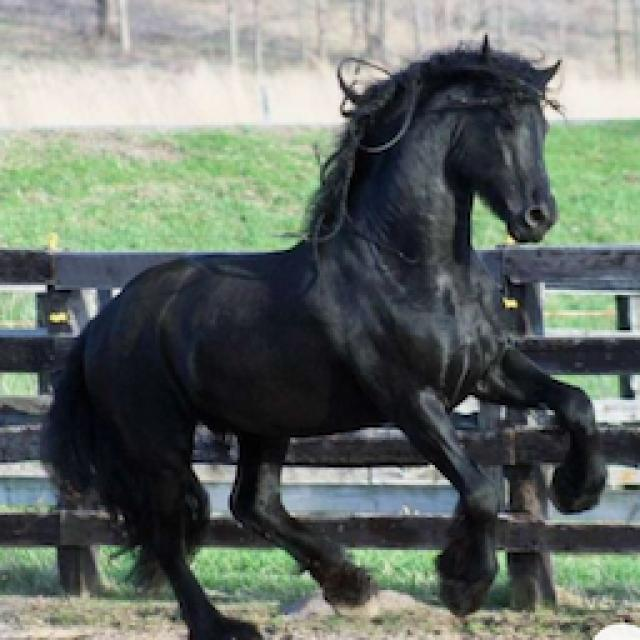Horse: (35, 32, 613, 638)
